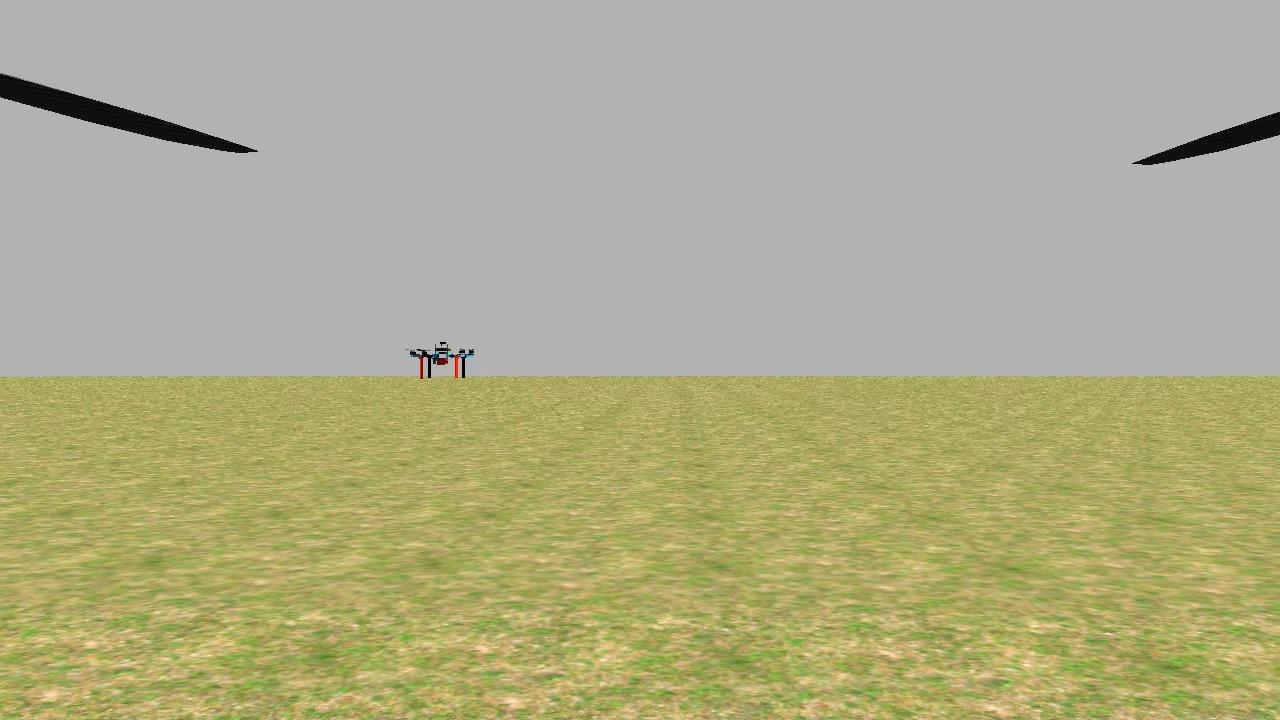UAV: (404, 338, 481, 386)
